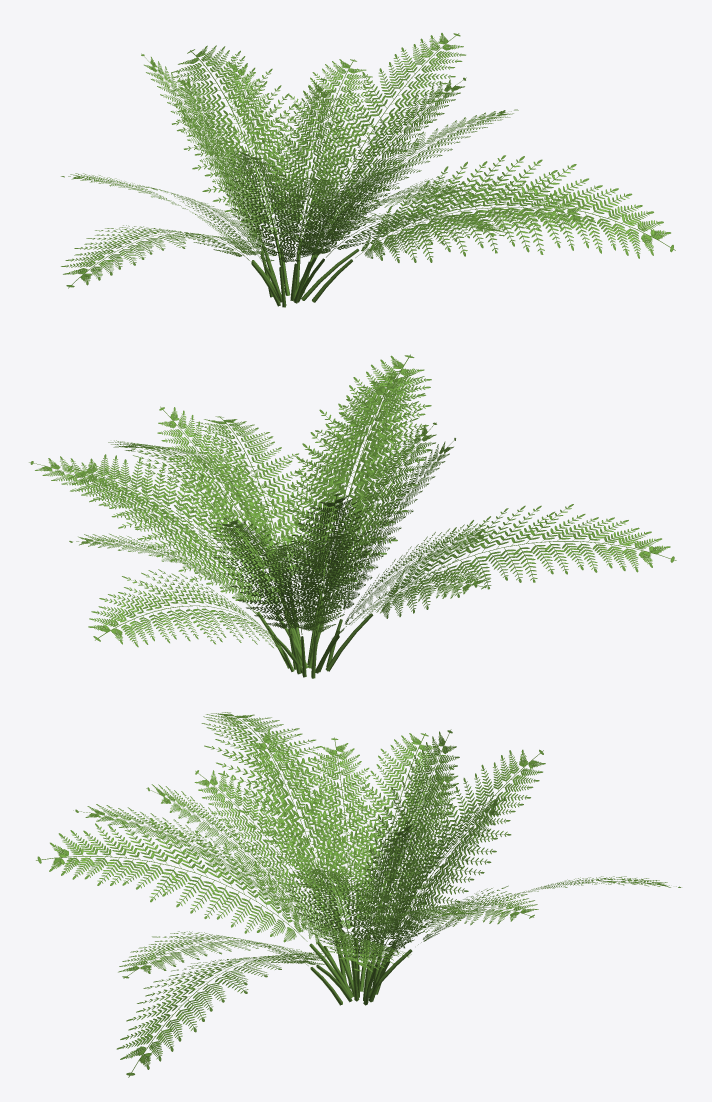
The model's file is lady_fern_v01.fbx.
3 renders of one model, top to bottom at view 1: azimuth 30°, elevation 25°; view 2: azimuth 150°, elevation 25°; view 3: azimuth 270°, elevation 25°, orthographic. The views are drawn at different scales.
Parts seen in each view (by area): view 1: lady_fern_v01; view 2: lady_fern_v01; view 3: lady_fern_v01.
Part boxes in pixels (x1,y1,x2,y2): lady_fern_v01: (61,33,675,307); lady_fern_v01: (29,354,676,678); lady_fern_v01: (36,712,681,1077).
Size of the model in its own units: 112 by 98.08 by 37.19.
Materials: 2 (2 with a texture image).
